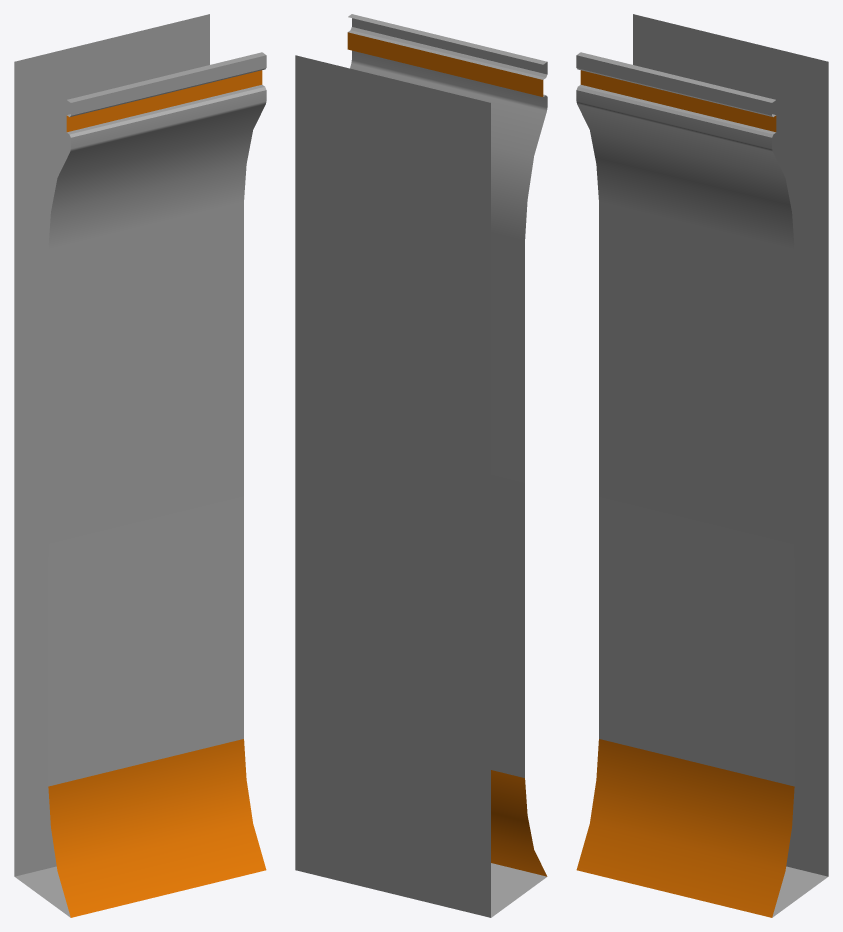
File: SM_wall_plain.fbx
The picture shows the model from 3 angles, left to right: view 1: azimuth 30°, elevation 25°; view 2: azimuth 150°, elevation 25°; view 3: azimuth 330°, elevation 25°; orthographic projection.
Visible parts, largest first — view 1: polySurface9; view 2: polySurface9; view 3: polySurface9.
Boxes of the visible parts, x1=… form: polySurface9: x1=14, y1=14, x2=266, y2=917; polySurface9: x1=295, y1=14, x2=547, y2=917; polySurface9: x1=576, y1=14, x2=828, y2=917.
Size of the model in its own units: 1 by 3.98 by 0.4988.
